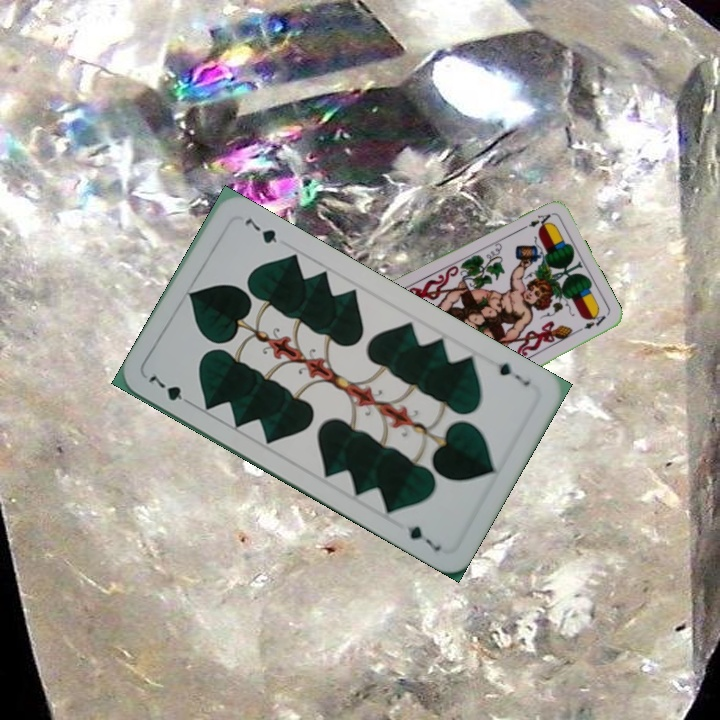EA: (516, 210, 553, 233)
G7: (144, 371, 196, 409), (494, 358, 533, 389)
